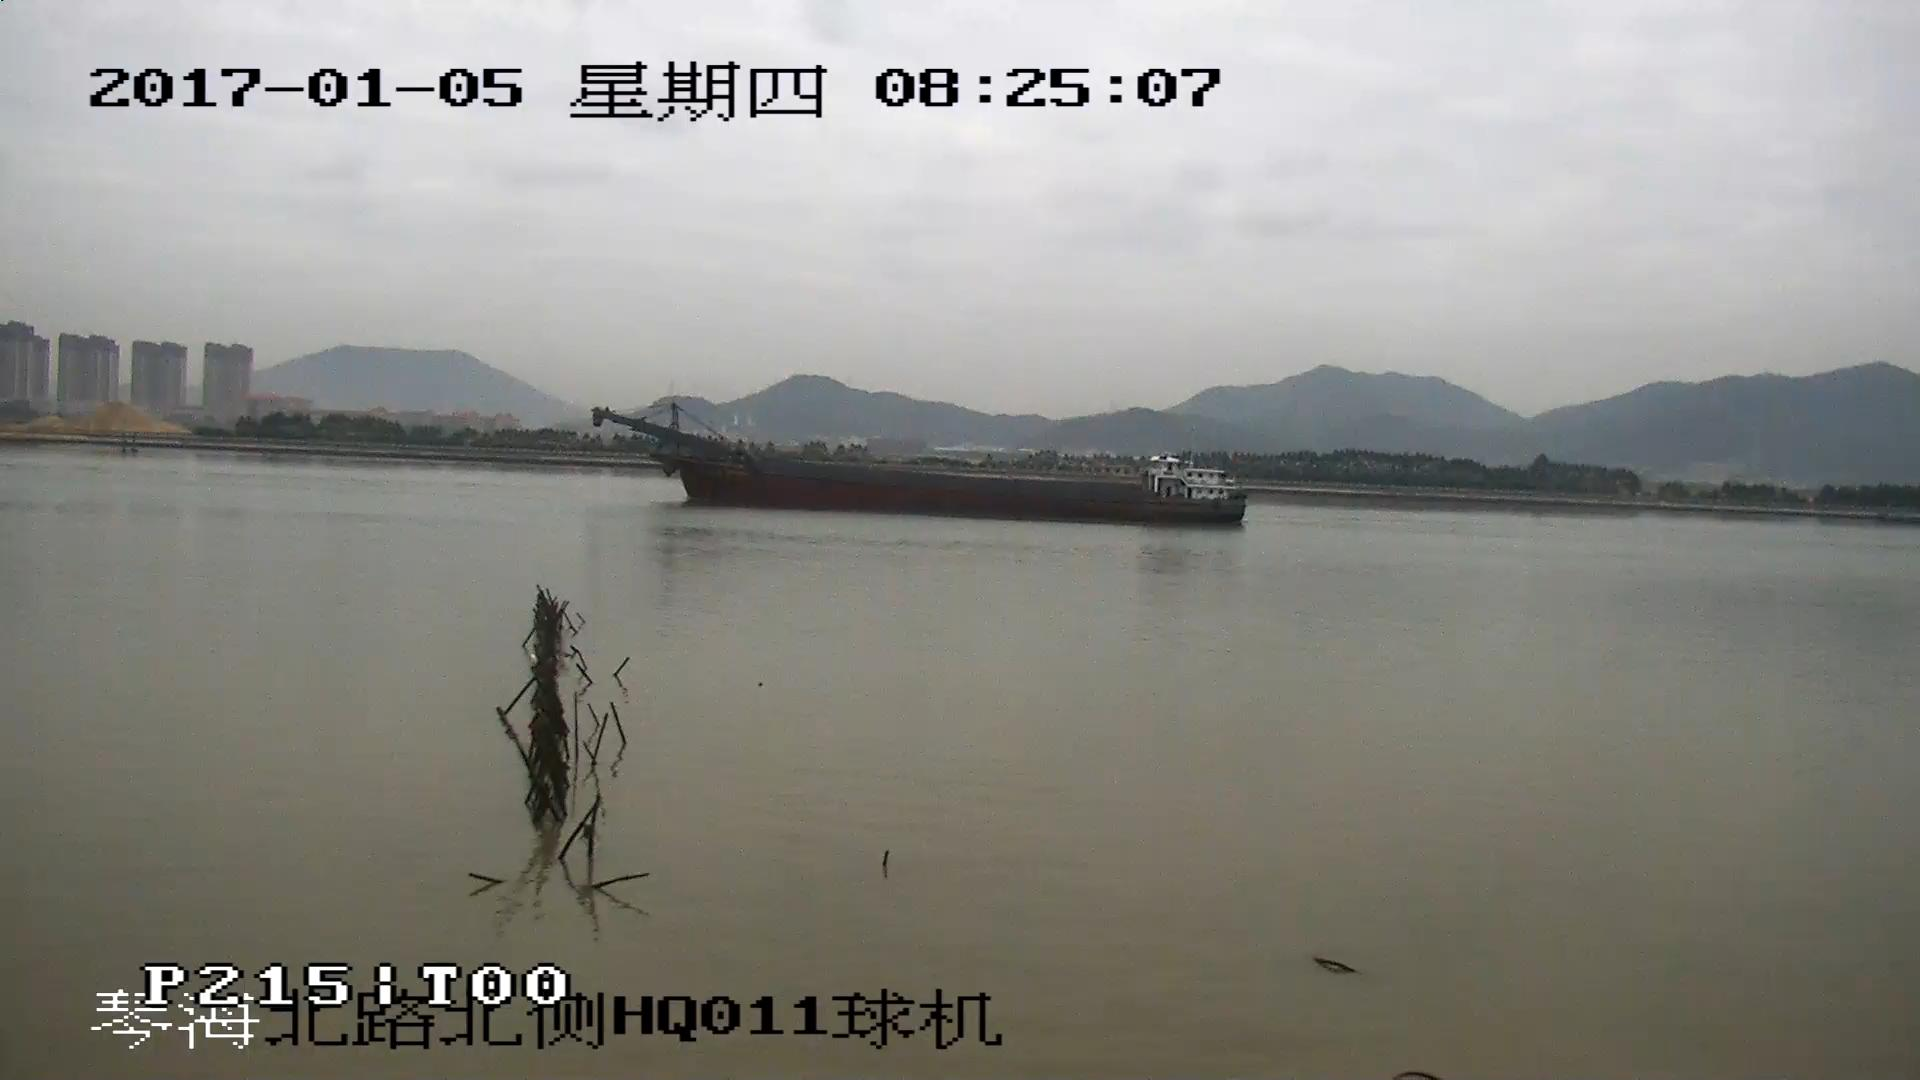bulk cargo carrier: (597, 405, 1244, 519)
